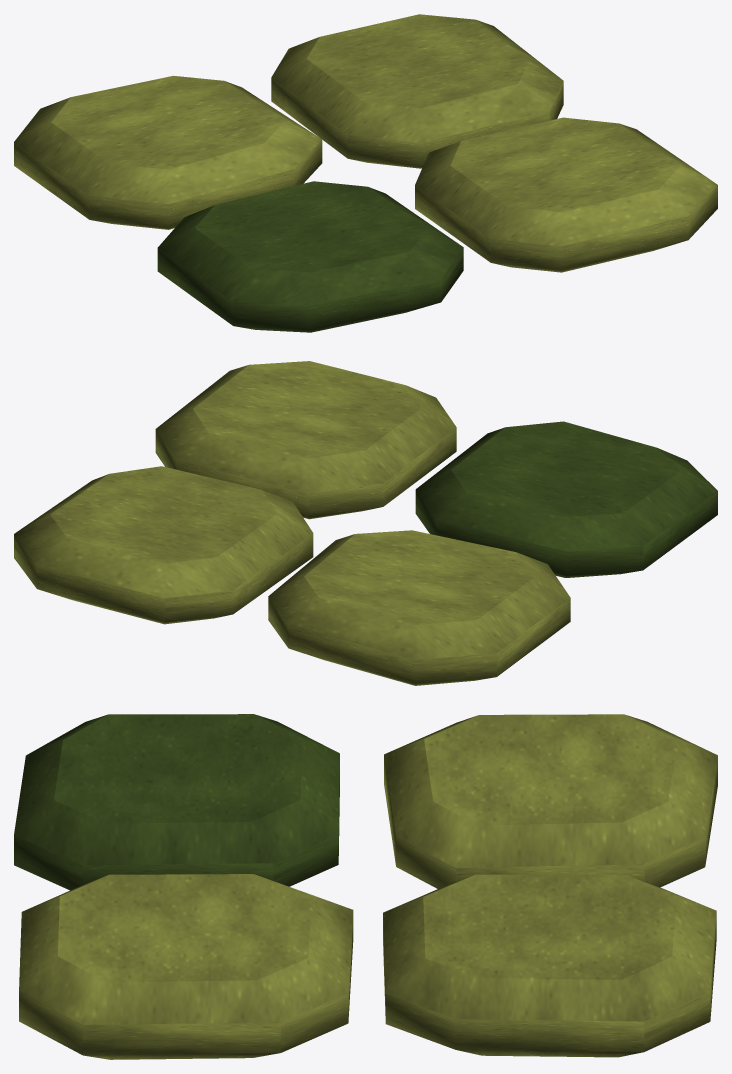
The model's file is stone-floor-2.fbx.
The picture shows the model from 3 angles, top to bottom: view 1: azimuth 30°, elevation 25°; view 2: azimuth 150°, elevation 25°; view 3: azimuth 270°, elevation 25°; orthographic projection. The views are drawn at different scales.
Parts seen in each view (by area): view 1: stone-floor-2__Geometry; view 2: stone-floor-2__Geometry; view 3: stone-floor-2__Geometry.
Part boxes in pixels (x1,y1,x2,y2): stone-floor-2__Geometry: (14, 14, 717, 332); stone-floor-2__Geometry: (14, 361, 717, 685); stone-floor-2__Geometry: (14, 714, 717, 1059).
Bounding box in the file's own units: 0.9702 × 0.12 × 0.9511.
Materials: 1 (1 with a texture image).
